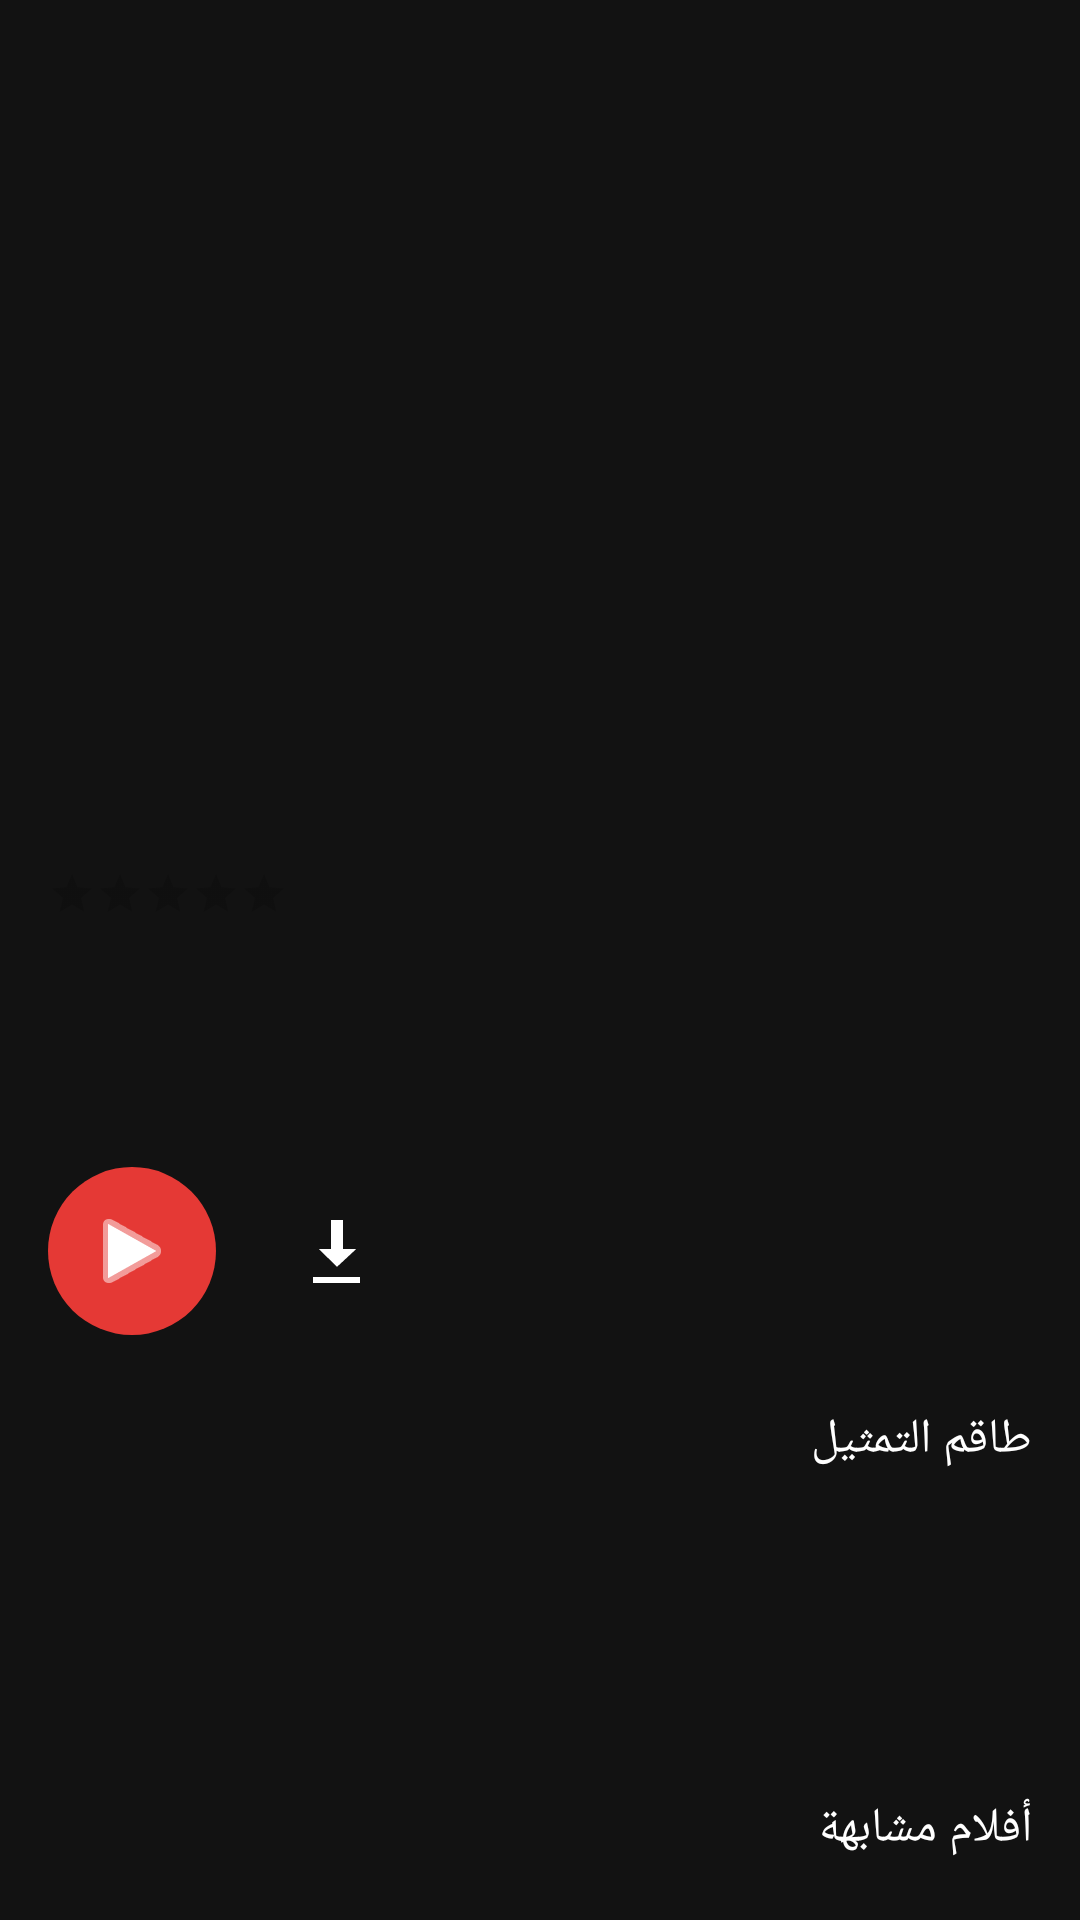

Locate icon controls on the screen. Image size 1080px×1920px, boxes as bbox=[x1, y1, x2, y2].
تحميل: bbox=[313, 1220, 360, 1283]
تشغيل: bbox=[48, 1167, 216, 1335]
